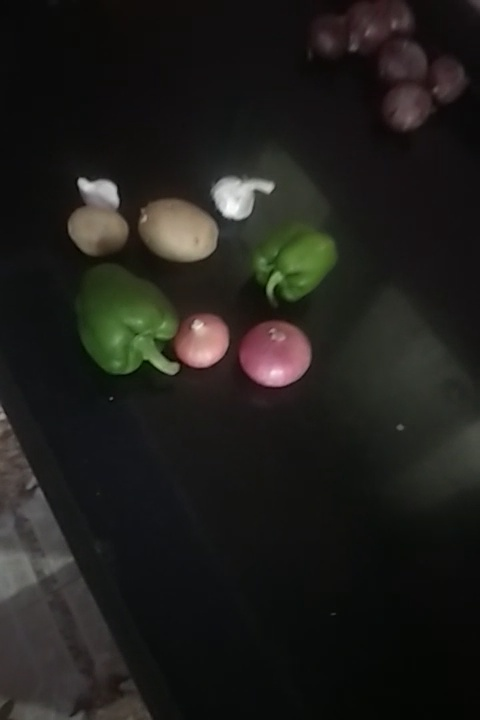capsicum: (71, 254, 171, 380), (253, 222, 346, 306)
garlic: (209, 171, 274, 220), (73, 167, 132, 213)
onion: (246, 312, 308, 397), (169, 313, 233, 377), (343, 4, 398, 65), (374, 77, 431, 132), (378, 41, 434, 87), (430, 51, 469, 107), (310, 8, 346, 65)
potato: (136, 200, 218, 264), (64, 206, 137, 261)
